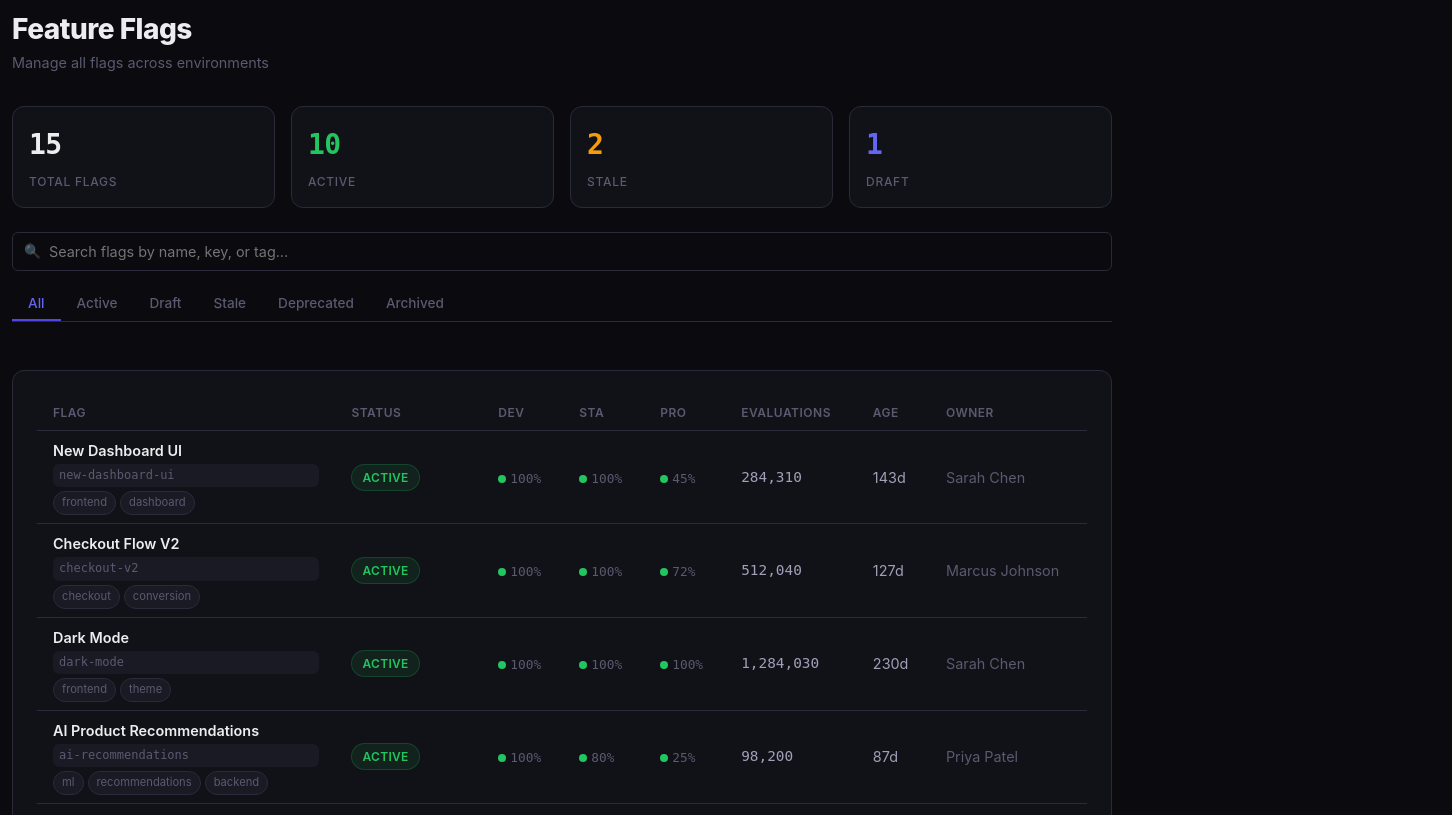
Test case: DashboardPage › filters flags by search
Step 1. Type "checkout" into the field with placeholder "Search flags by name, key, or tag..." → point(562, 252), box left=12, top=232, right=1112, bottom=271
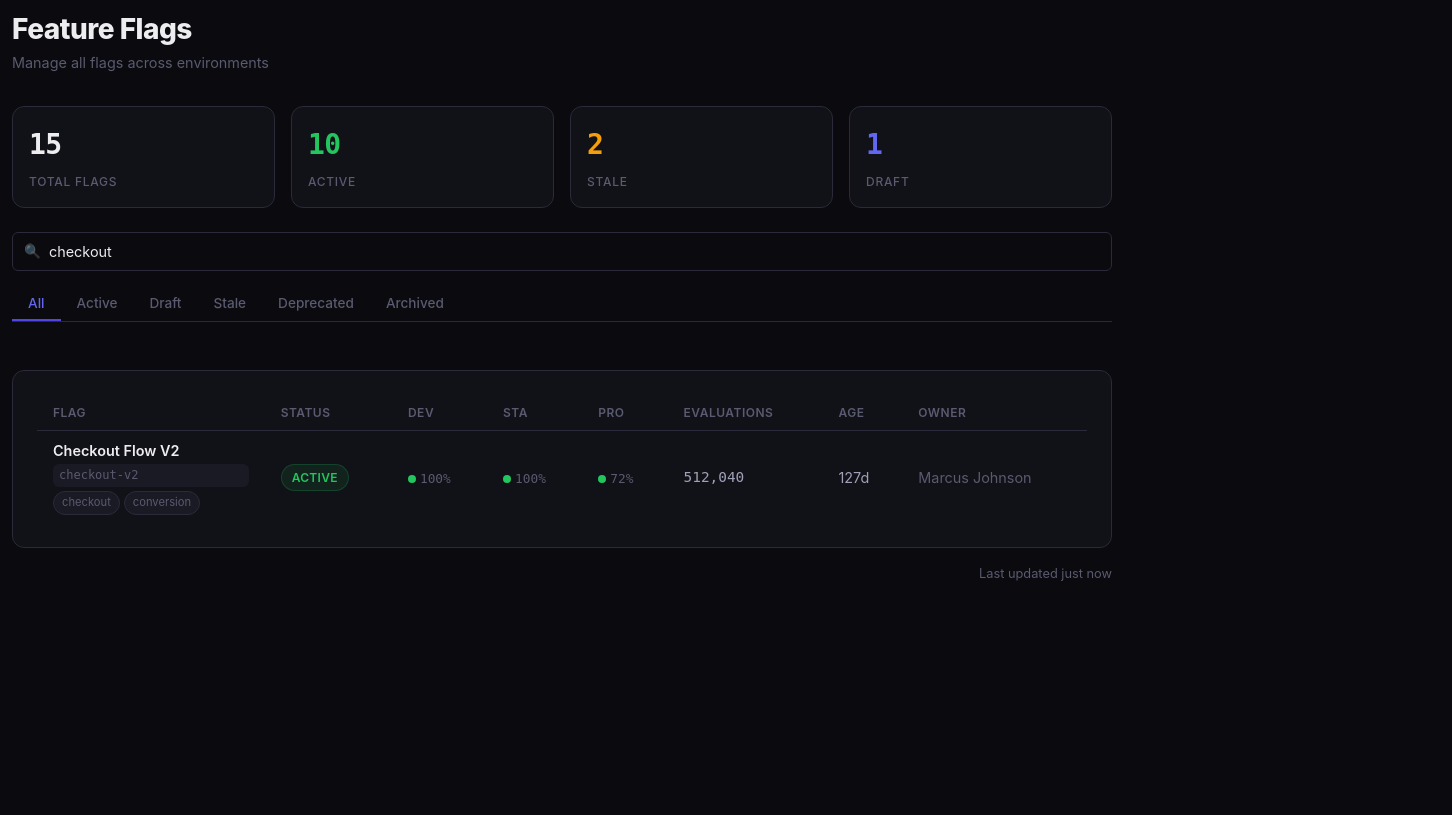
Expected: the text "Checkout Flow V2" is shown, left=53, top=442, right=179, bottom=459
Now the link "Dark Mode" is gone
